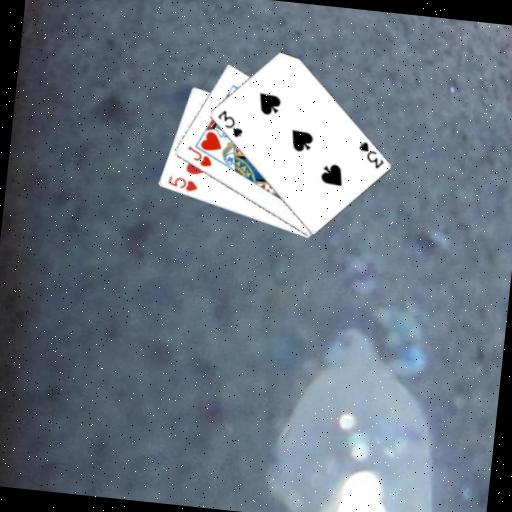3S: (212, 106, 247, 140), (354, 138, 387, 171)
5H: (163, 173, 200, 195)
JH: (183, 143, 215, 170)
